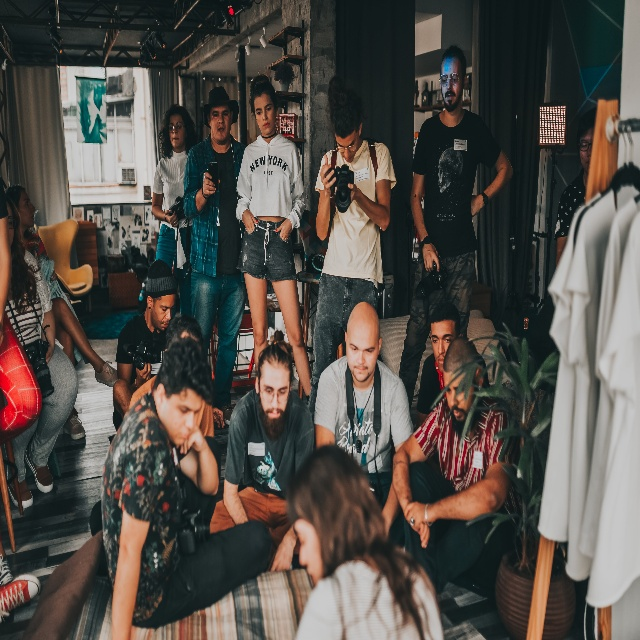Gafas: (260, 383, 291, 406), (168, 119, 184, 135), (441, 73, 459, 87), (336, 143, 355, 154), (579, 137, 593, 151)
Sin_guantes: (179, 427, 202, 459), (321, 153, 338, 192), (404, 500, 425, 527), (422, 242, 440, 271), (203, 170, 220, 198), (274, 217, 292, 242), (417, 522, 430, 552), (242, 209, 259, 231), (212, 406, 225, 430), (471, 194, 484, 216), (165, 208, 179, 227), (348, 182, 356, 202)
